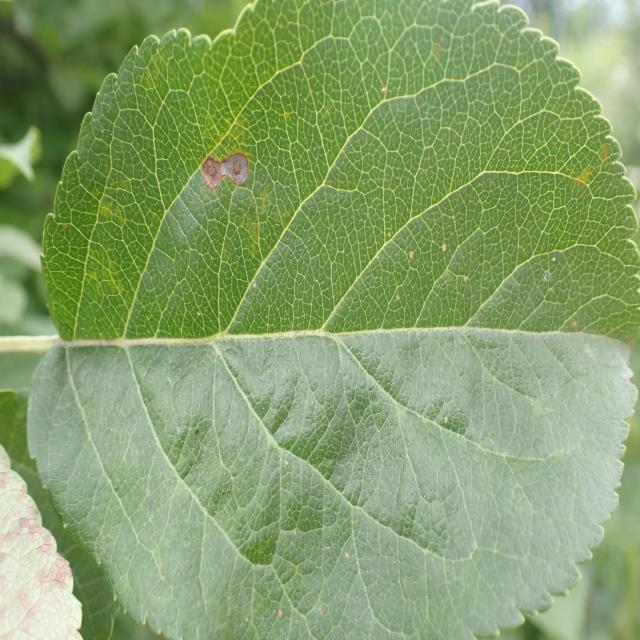Black Rot: (194, 138, 269, 215)
